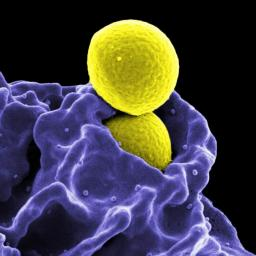psoriasis: (75, 17, 187, 112)
